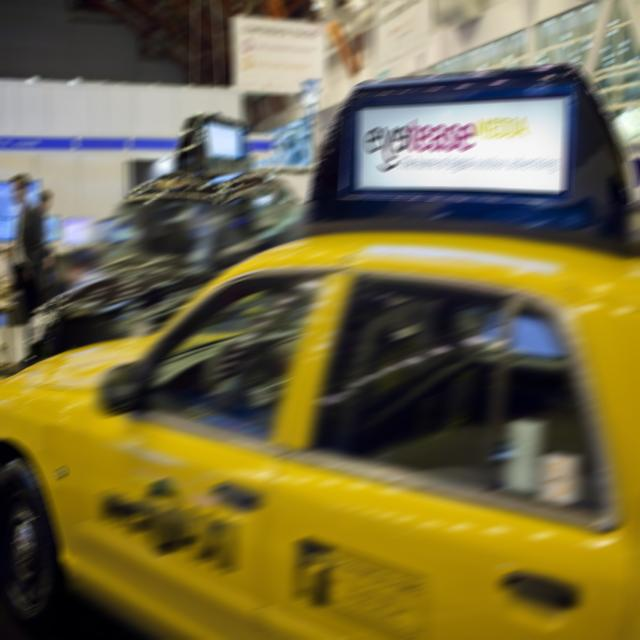Taxi: (67, 202, 640, 639)
